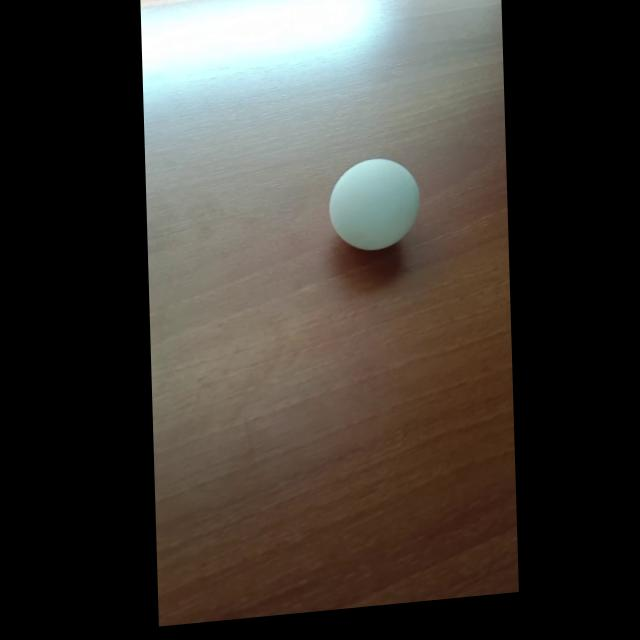white ball: (327, 154, 421, 256)
